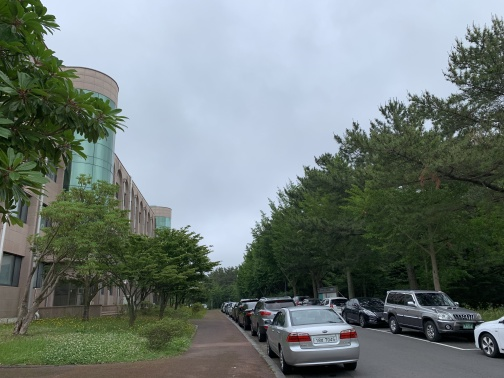Natural Science2: (55, 57, 186, 236)
